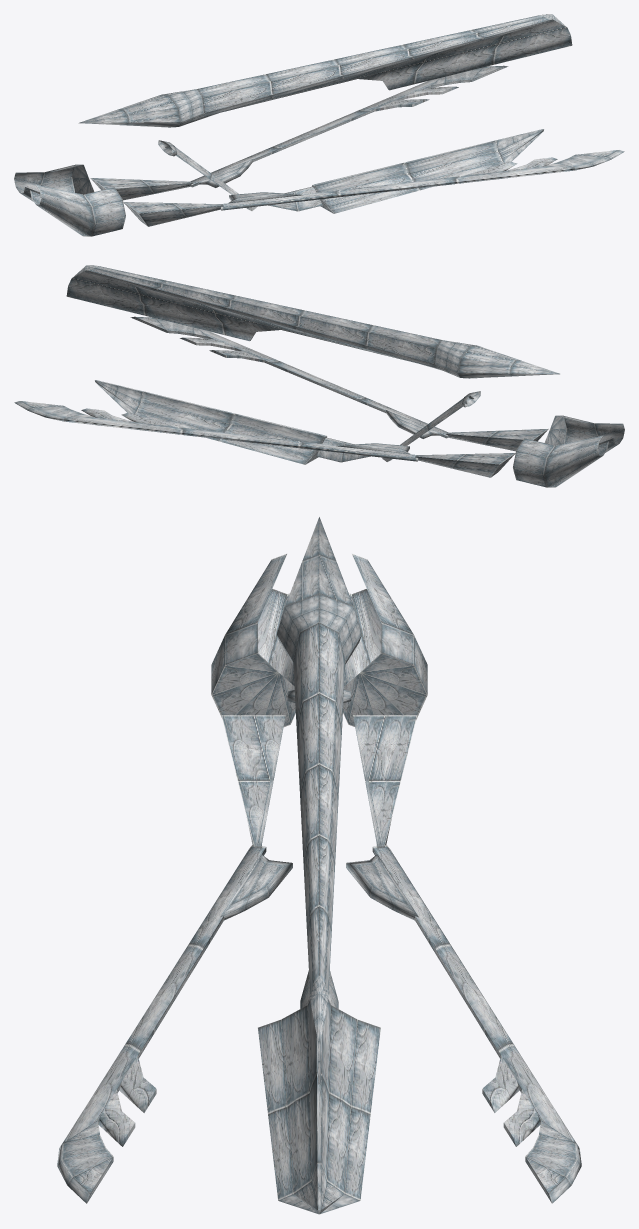
File: sjp23.obj
The picture shows the model from 3 angles, top to bottom: view 1: azimuth 30°, elevation 25°; view 2: azimuth 150°, elevation 25°; view 3: azimuth 270°, elevation 25°; orthographic projection. The views are drawn at different scales.
Visible parts, largest first — view 1: FIGHTER_TAIL-H0, SPIKEY0, WING_ROT_R040, WING_ROT_R050, ARM0; view 2: FIGHTER_TAIL-H0, SPIKEY0, WING_ROT_R050, WING_ROT_R040, ARM0; view 3: FIGHTER_TAIL-H0, SPIKEY0, WING_ROT_R050, WING_ROT_R040.
Boxes of the visible parts, bbox=[...] form: FIGHTER_TAIL-H0: bbox=[14, 14, 572, 236]; SPIKEY0: bbox=[268, 129, 543, 213]; WING_ROT_R040: bbox=[220, 150, 624, 210]; WING_ROT_R050: bbox=[190, 65, 508, 187]; ARM0: bbox=[165, 145, 256, 210]; FIGHTER_TAIL-H0: bbox=[66, 265, 624, 487]; SPIKEY0: bbox=[95, 380, 370, 464]; WING_ROT_R050: bbox=[14, 401, 418, 461]; WING_ROT_R040: bbox=[130, 316, 448, 438]; ARM0: bbox=[382, 396, 473, 461]; FIGHTER_TAIL-H0: bbox=[211, 517, 427, 1084]; SPIKEY0: bbox=[258, 970, 380, 1214]; WING_ROT_R050: bbox=[346, 845, 581, 1203]; WING_ROT_R040: bbox=[57, 845, 292, 1203].
Bounding box in the file's own units: 104 × 26.94 × 43.47.
Materials: 5 (5 with a texture image).
